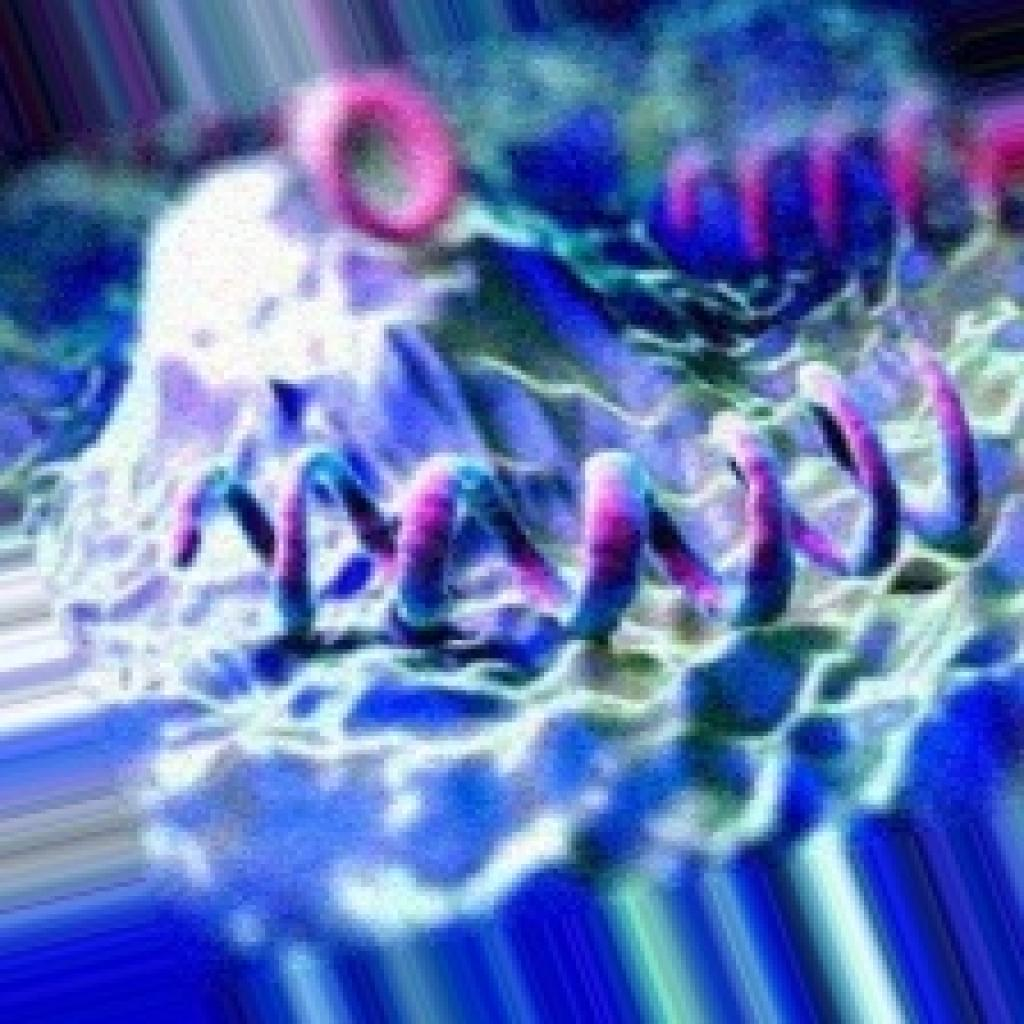Sprialbacteria: (4, 0, 1019, 1019)
